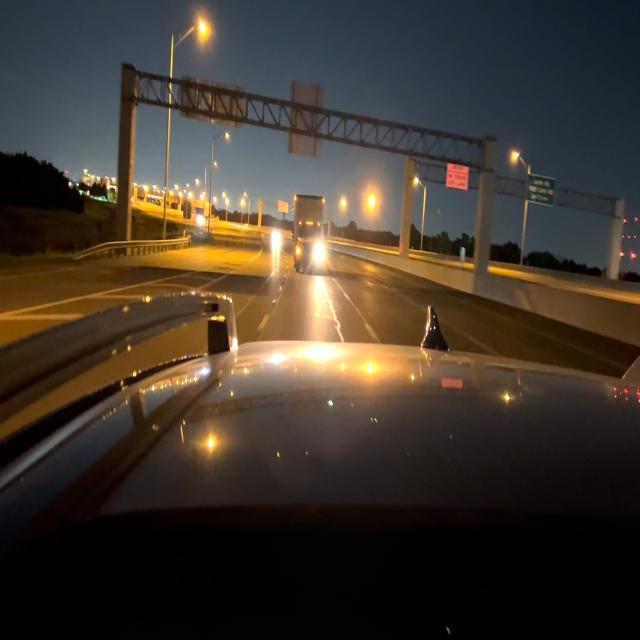back-of-sign: (182, 76, 246, 129), (292, 79, 323, 157)
